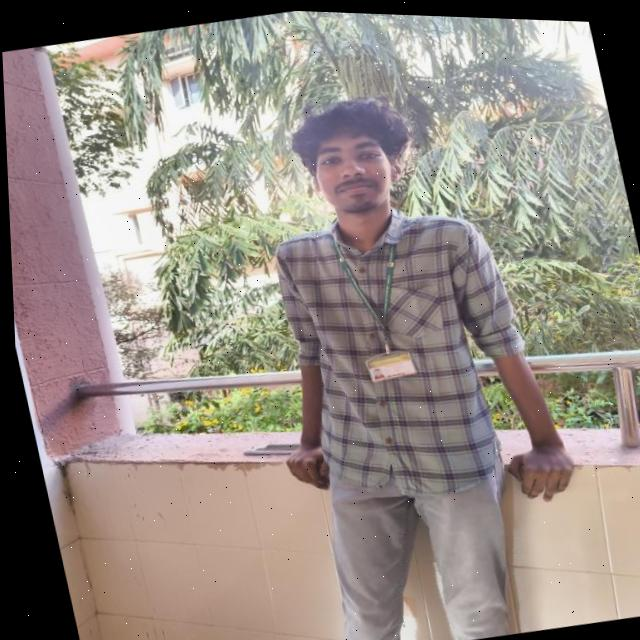id_card: (328, 226, 419, 387)
